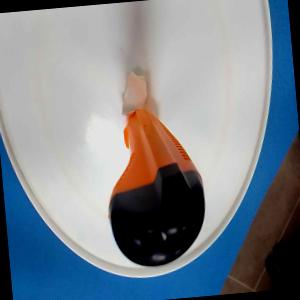estilete: (99, 100, 210, 270)
